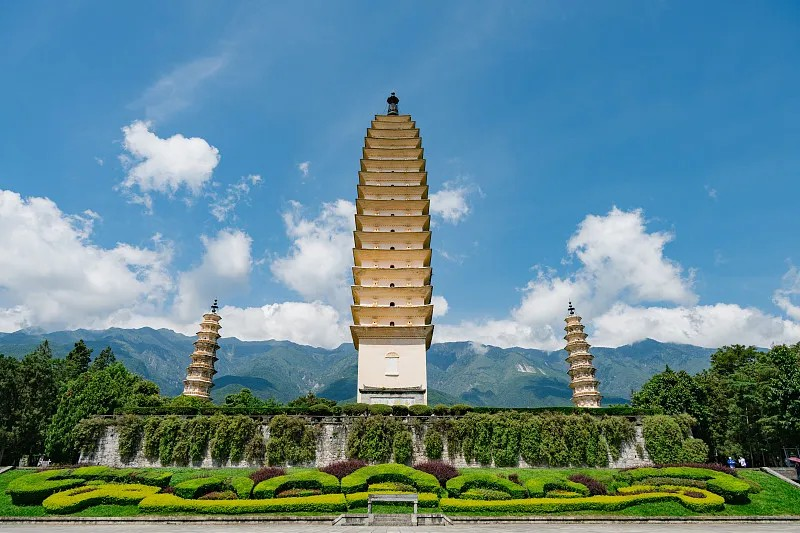ThreePagoda: (350, 93, 434, 408)
